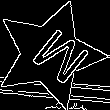M_SW: (15, 20, 85, 88)
